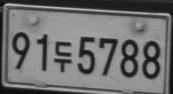1: (33, 32, 53, 71)
5: (76, 36, 95, 74)
7: (98, 37, 118, 76)
8: (119, 38, 139, 78), (141, 39, 161, 79)
9: (11, 30, 30, 70)
두: (53, 40, 72, 72)
